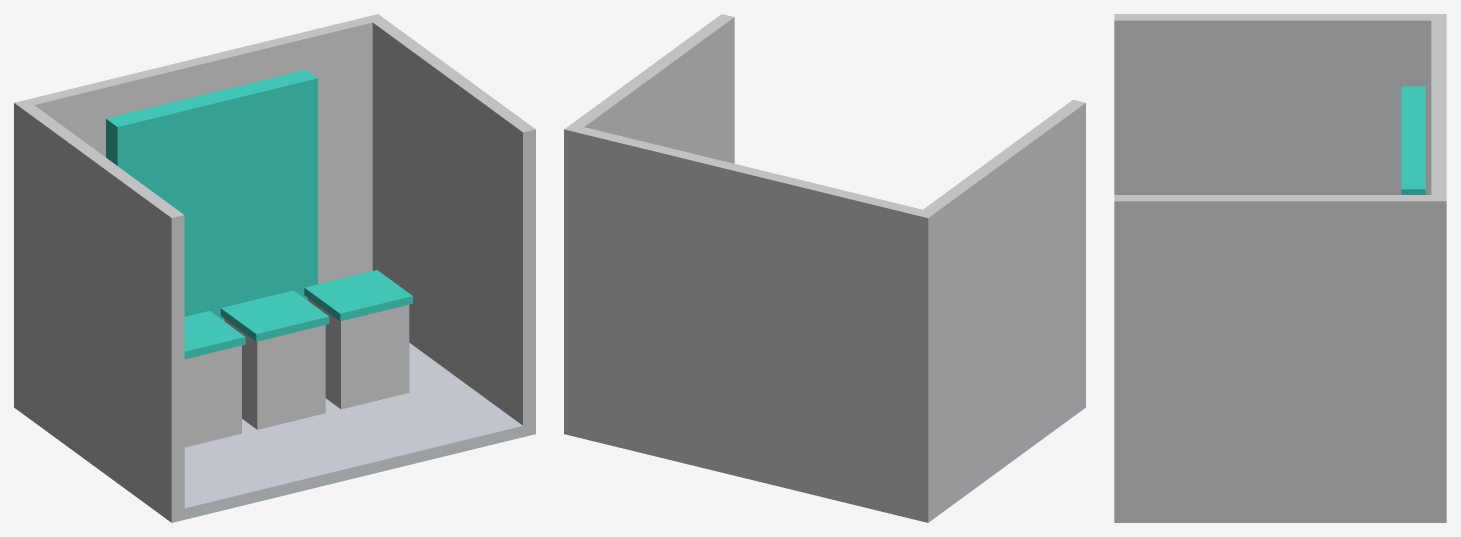
3 renders of one model, left to right at view 1: azimuth 30°, elevation 25°; view 2: azimuth 150°, elevation 25°; view 3: azimuth 270°, elevation 25°, orthographic. The views are drawn at different scales.
Visible parts, largest first — view 1: Exhibition Booth Concept; view 2: Exhibition Booth Concept; view 3: Exhibition Booth Concept.
Part boxes in pixels (box(x1,y1,x2,y2)): Exhibition Booth Concept: box(14, 14, 535, 522); Exhibition Booth Concept: box(564, 14, 1085, 522); Exhibition Booth Concept: box(1114, 14, 1446, 522).
Bounding box in the file's own units: 4 × 3.2 × 3.
